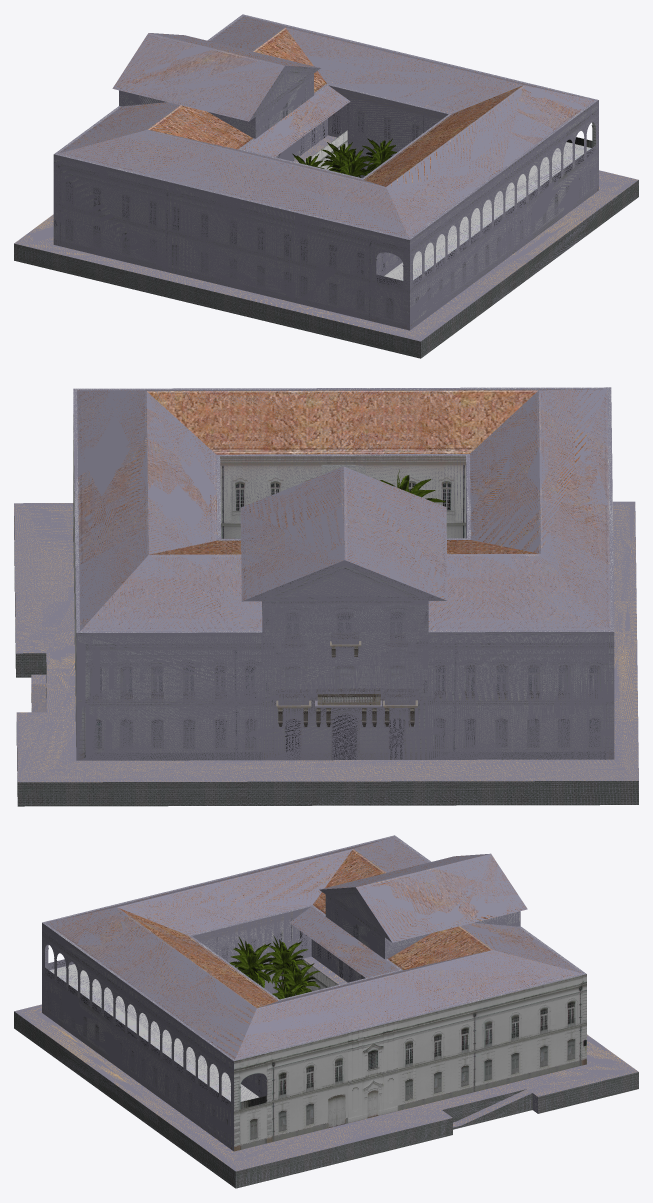
The model's file is MuseuEstadoPalacioLauroSodre.fbx.
The picture shows the model from 3 angles, top to bottom: view 1: azimuth 30°, elevation 25°; view 2: azimuth 150°, elevation 25°; view 3: azimuth 270°, elevation 25°; orthographic projection. The views are drawn at different scales.
Visible parts, largest first — view 1: Group5, Model, Group9, Group7, Group8, palm1_4; view 2: Group5, Model, Group8, Group7; view 3: Group5, Model, Group9, Group7, Group8, palm1_4, palm1_2, palm1_6.
Boxes of the visible parts, box(x1,y1,x2,y2) form: Group5: box(53, 14, 598, 330); Model: box(14, 170, 638, 358); Group9: box(376, 142, 591, 280); Group7: box(148, 27, 326, 149); Group8: box(364, 85, 522, 186); palm1_4: box(327, 148, 371, 176); Group5: box(73, 387, 614, 760); Model: box(14, 501, 638, 806); Group8: box(147, 390, 537, 454); Group7: box(149, 540, 539, 554); Group5: box(42, 835, 586, 1151); Model: box(14, 1004, 638, 1188); Group9: box(49, 964, 266, 1101); Group7: box(313, 849, 492, 970); Group8: box(117, 907, 277, 1007); palm1_4: box(229, 943, 278, 987); palm1_2: box(264, 941, 307, 988); palm1_6: box(273, 963, 319, 997).
Bounding box in the file's own units: 87.16 × 24.78 × 88.57.
